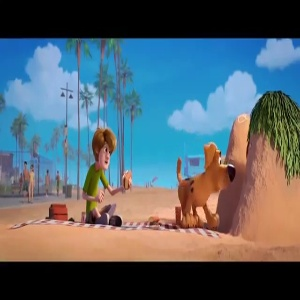Scooby: (201, 139, 238, 193)
Shagy: (88, 124, 122, 171)
